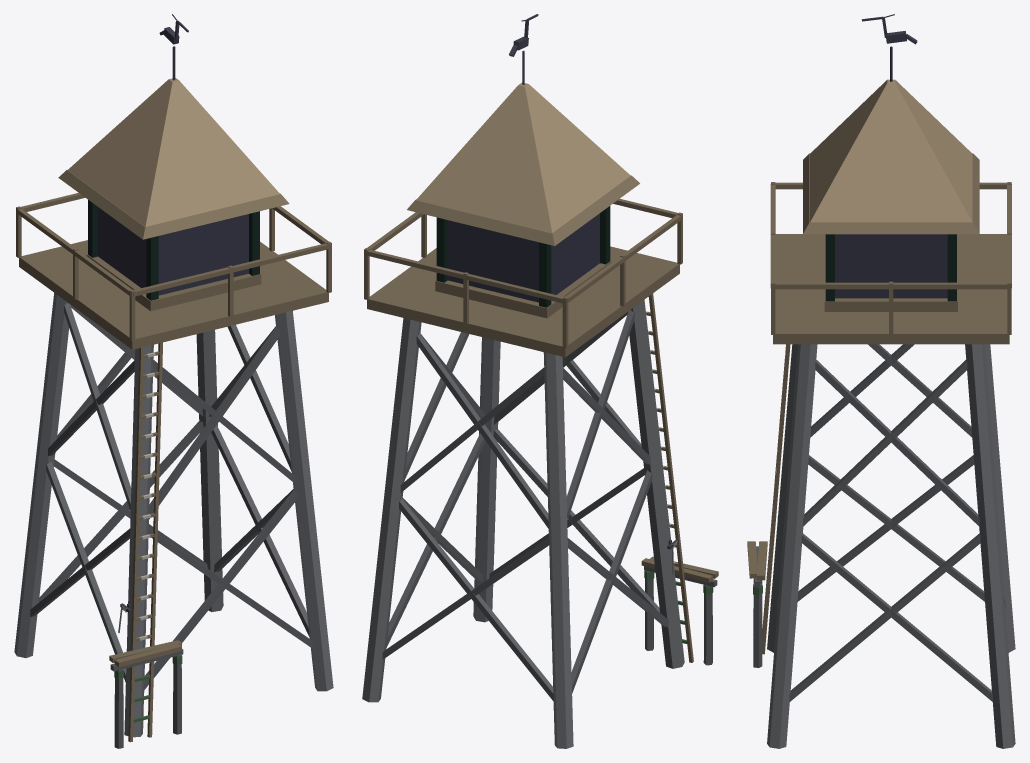
File: heron_light_near.glb
3 views of the same model, side by side, from view 1: azimuth 30°, elevation 25°; view 2: azimuth 150°, elevation 25°; view 3: azimuth 270°, elevation 25° (orthographic). The views are drawn at different scales.
Parts seen in each view (by area): view 1: driftwood_d40, silverfog_d45, silverfog_d55, driftwood_d20, ink_l12, driftwood_d35, pine_d60, bone_d22; view 2: silverfog_d45, silverfog_d55, driftwood_d40, driftwood_d20, ink_l12, driftwood_d35, pine_d60; view 3: driftwood_d40, silverfog_d45, driftwood_d20, silverfog_d55, ink_l12, driftwood_d35, pine_d60, ink_l15.
Boxes of the visible parts, box(x1,y1,x2,y2) form: driftwood_d40: box(16, 192, 331, 742); silverfog_d45: box(14, 293, 333, 737); silverfog_d55: box(30, 303, 313, 748); driftwood_d20: box(68, 78, 279, 226); ink_l12: box(98, 207, 248, 295); driftwood_d35: box(58, 170, 289, 239); pine_d60: box(88, 200, 259, 300); bone_d22: box(139, 352, 155, 640); silverfog_d45: box(362, 299, 684, 748); silverfog_d55: box(382, 310, 717, 701); driftwood_d40: box(364, 199, 718, 662); driftwood_d20: box(416, 82, 630, 233); ink_l12: box(447, 213, 599, 302); driftwood_d35: box(407, 175, 639, 245); pine_d60: box(436, 206, 610, 307); driftwood_d40: box(747, 182, 1011, 654); silverfog_d45: box(767, 344, 1015, 748); driftwood_d20: box(810, 79, 972, 222); silverfog_d55: box(753, 344, 1005, 702); ink_l12: box(835, 234, 947, 298); driftwood_d35: box(803, 153, 979, 234); pine_d60: box(825, 234, 956, 301); ink_l15: box(777, 14, 917, 518).
Size of the model in its own units: 3.85 by 10.53 by 3.74.
